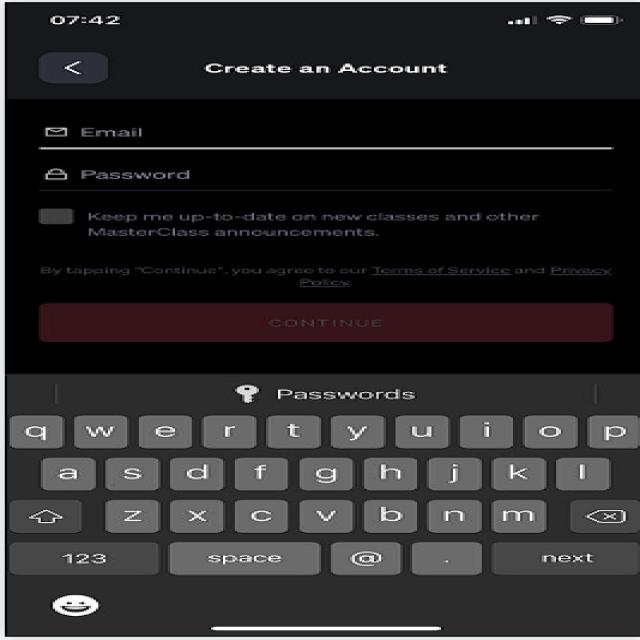icon button: (37, 48, 123, 93)
input: (28, 160, 626, 195), (28, 120, 622, 155)
text: (84, 202, 596, 245), (192, 59, 488, 78)
